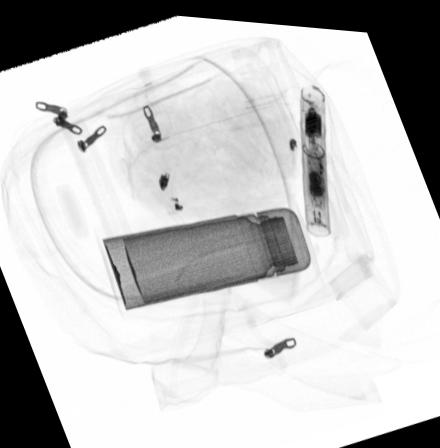Baton: (298, 75, 331, 232)
